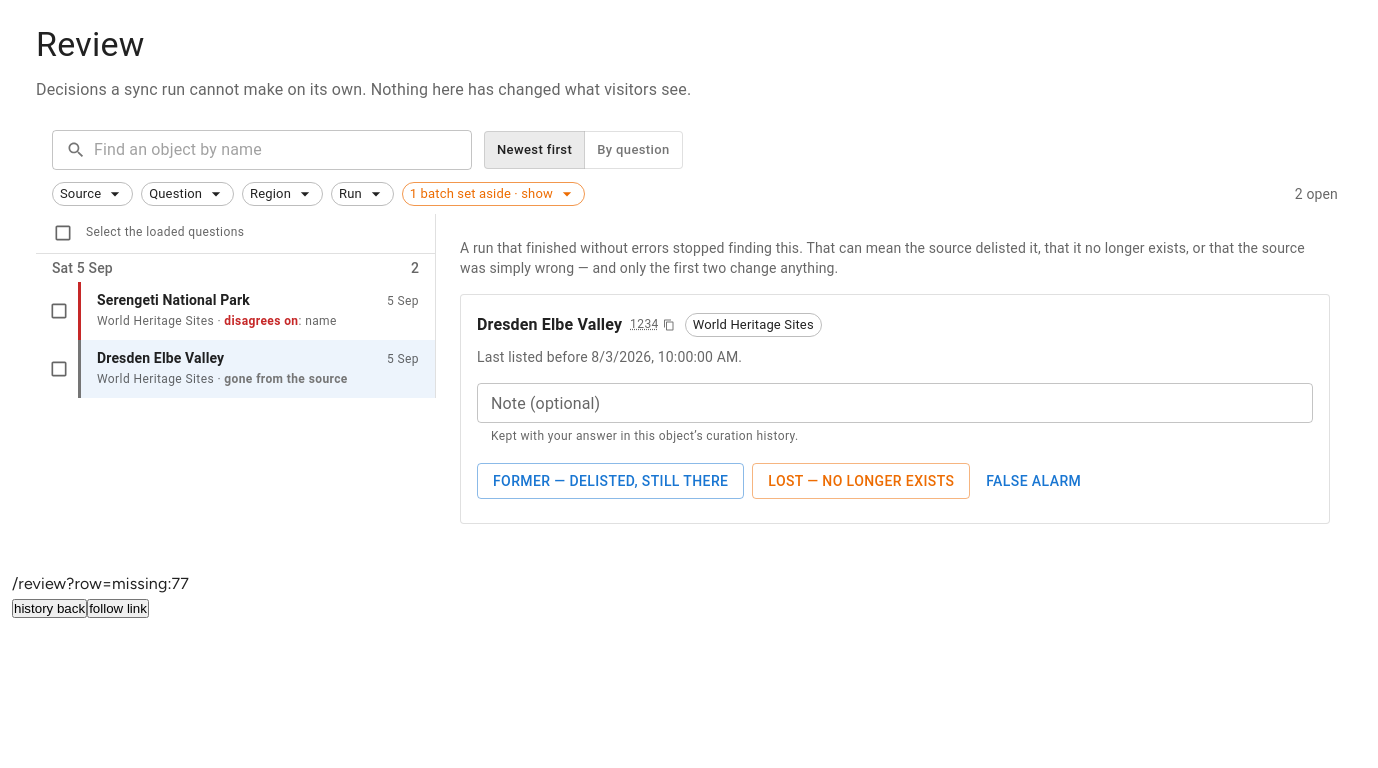
Test: ReviewPage › keeps the row when the set-aside toggle changes, though not the remembered index
Click the button "1 batch set aside · show": coordinates (493, 194) [402,182,585,206]
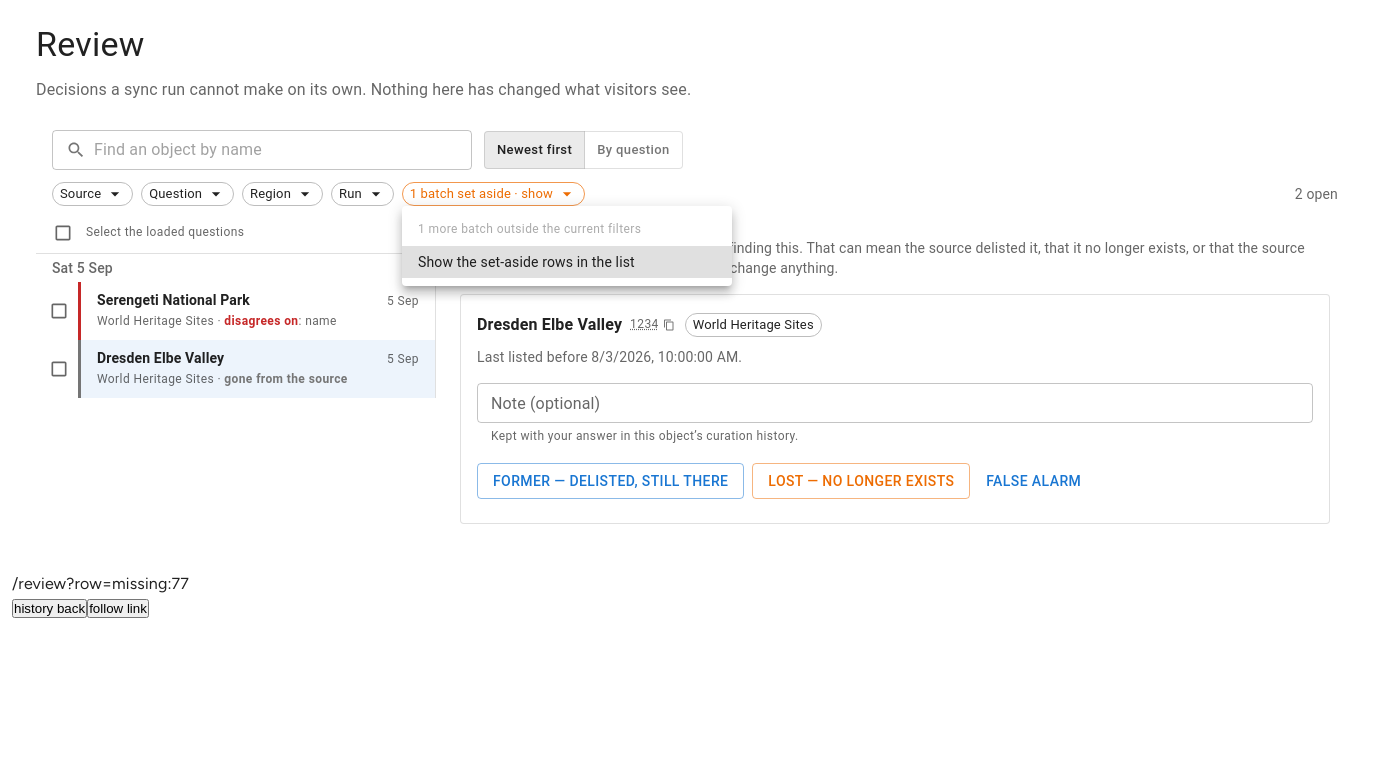
Click the menu item "Show the set-aside rows in the list": coordinates (567, 262) [402,246,732,278]
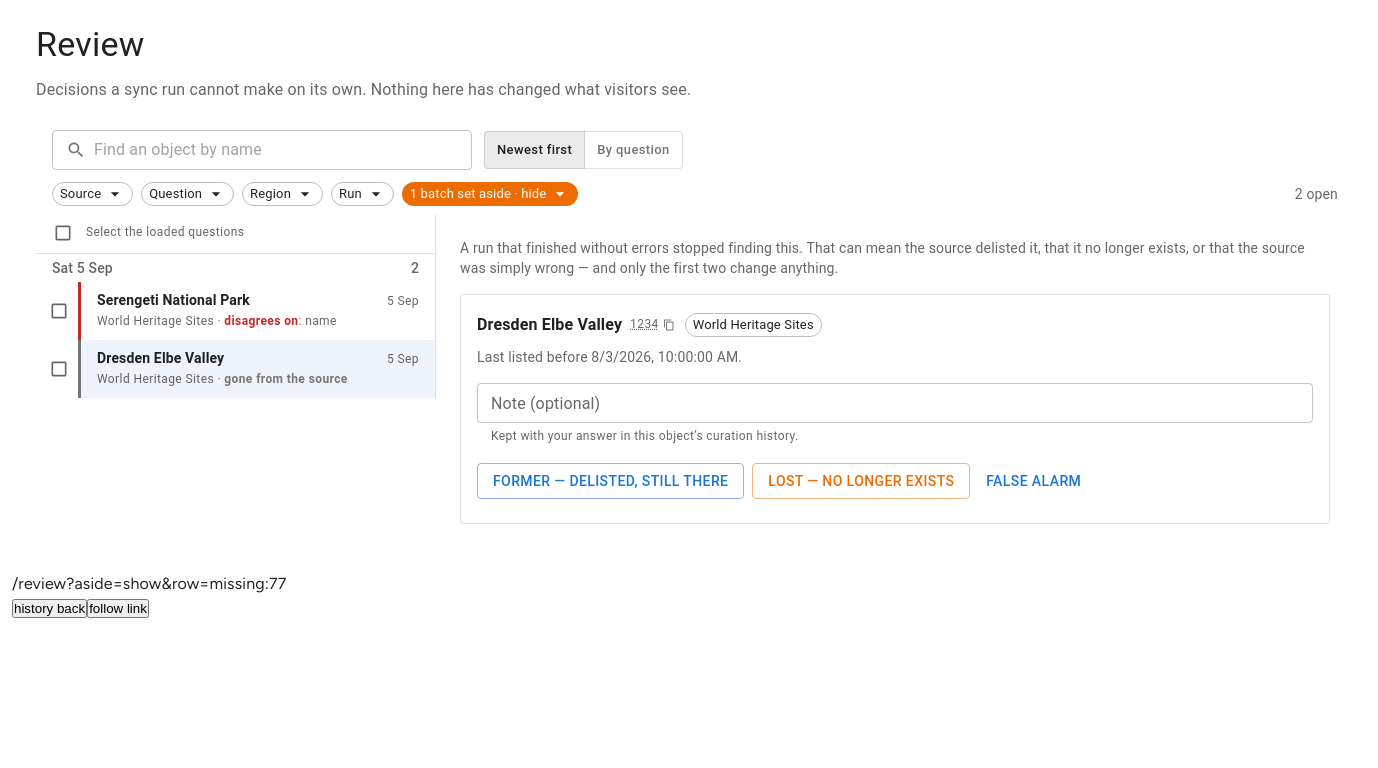
Result: the text with test id "address" reads "/review?aside=show&row=missing:77" at [12,574,286,593]
